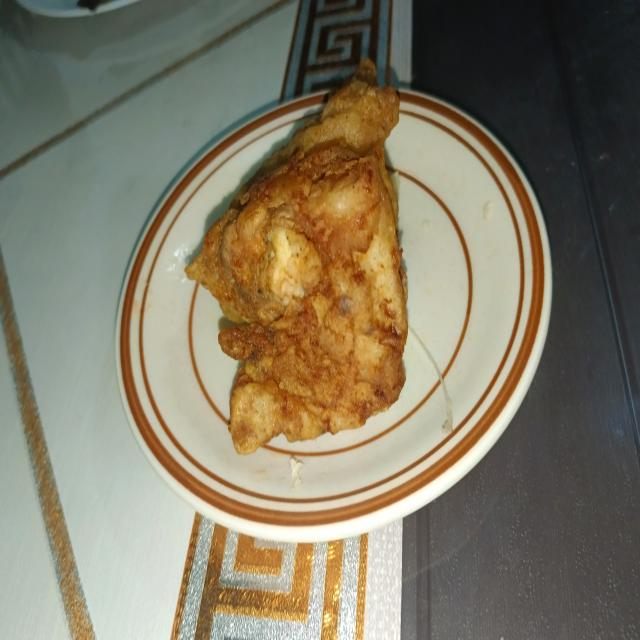Chicken -Fried Chicken-: (185, 56, 444, 456)
